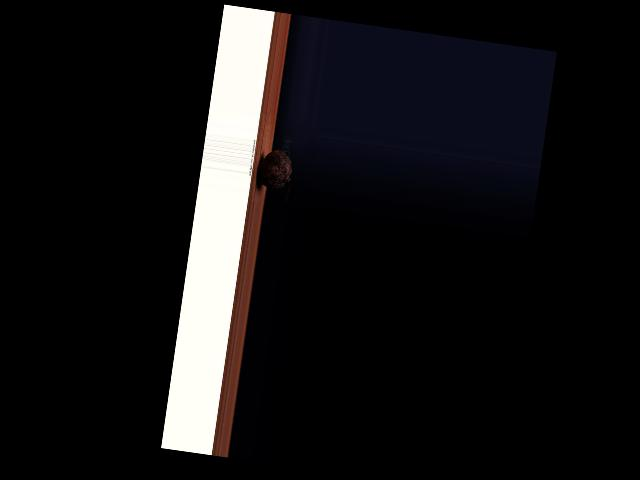beet: (254, 148, 294, 203)
